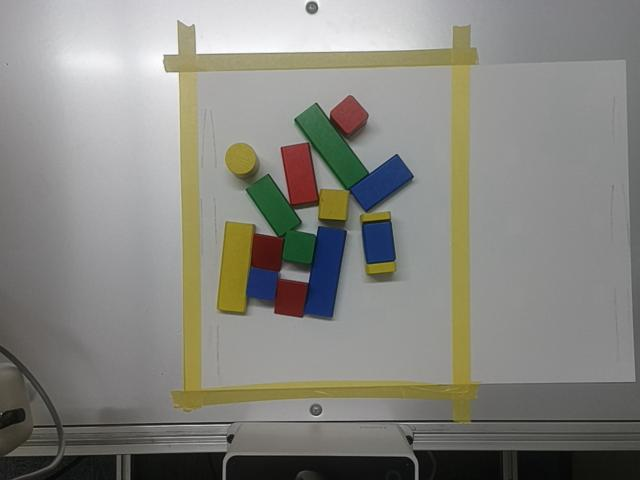blue_cube: (248, 267, 278, 300)
blue_longrect: (304, 227, 346, 318)
blue_rect: (351, 154, 414, 211), (363, 221, 396, 263)
cylinder: (226, 143, 259, 178)
green_cube: (284, 230, 316, 264)
green_longrect: (295, 103, 369, 189)
green_rect: (247, 174, 301, 236)
red_cube: (330, 95, 369, 138)
red_rect: (281, 142, 319, 206)
triangle: (275, 279, 308, 317), (252, 233, 283, 271)
yellow_cube: (319, 189, 350, 220)
yellow_longrect: (218, 222, 255, 312)
